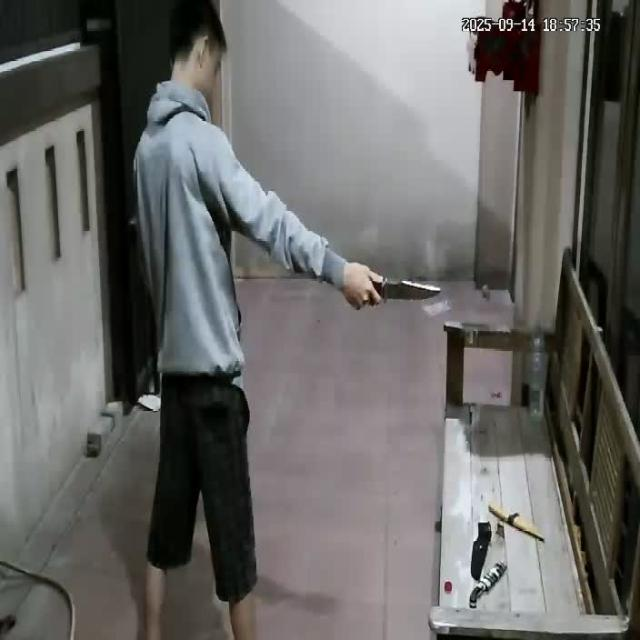senjata_tajam: (382, 277, 444, 308)
